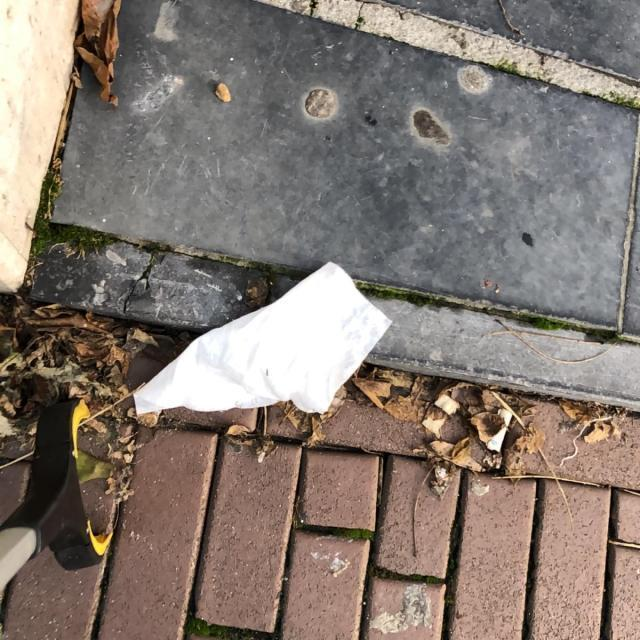Paper: (130, 259, 395, 422)
